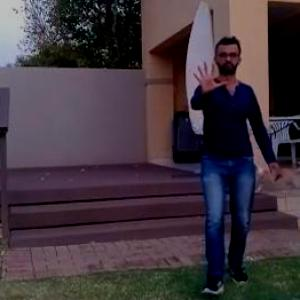follow_hand: (187, 54, 229, 96)
